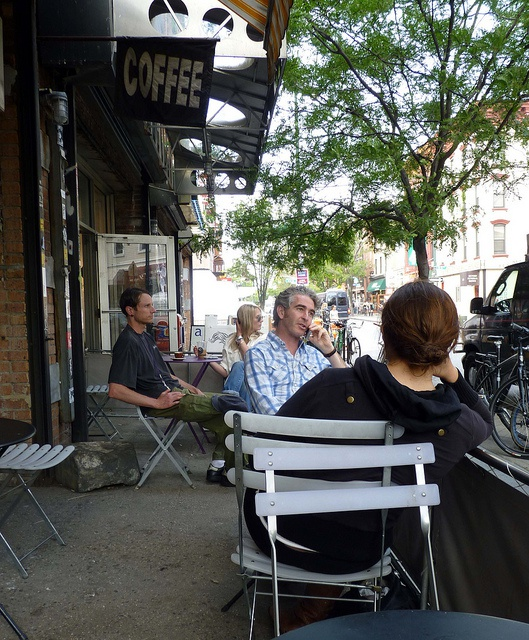non-vehicle: (472, 321, 528, 458), (332, 322, 364, 367)
